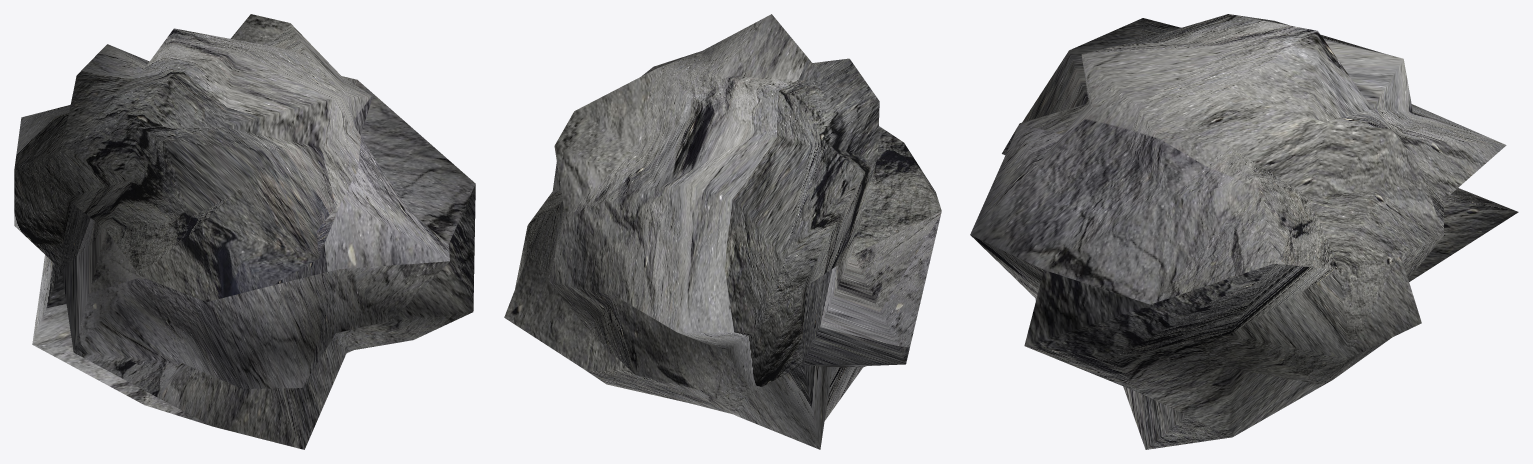
Rendered from rock3.FBX.
The picture shows the model from 3 angles, left to right: view 1: azimuth 30°, elevation 25°; view 2: azimuth 150°, elevation 25°; view 3: azimuth 270°, elevation 25°; orthographic projection. The views are drawn at different scales.
Parts seen in each view (by area): view 1: Box001; view 2: Box001; view 3: Box001.
Boxes of the visible parts, x1=… form: Box001: x1=14, y1=14, x2=475, y2=449; Box001: x1=504, y1=14, x2=941, y2=449; Box001: x1=970, y1=14, x2=1518, y2=449.
Bounding box in the file's own units: 107 × 130 × 103.
1 material, 1 textured.
